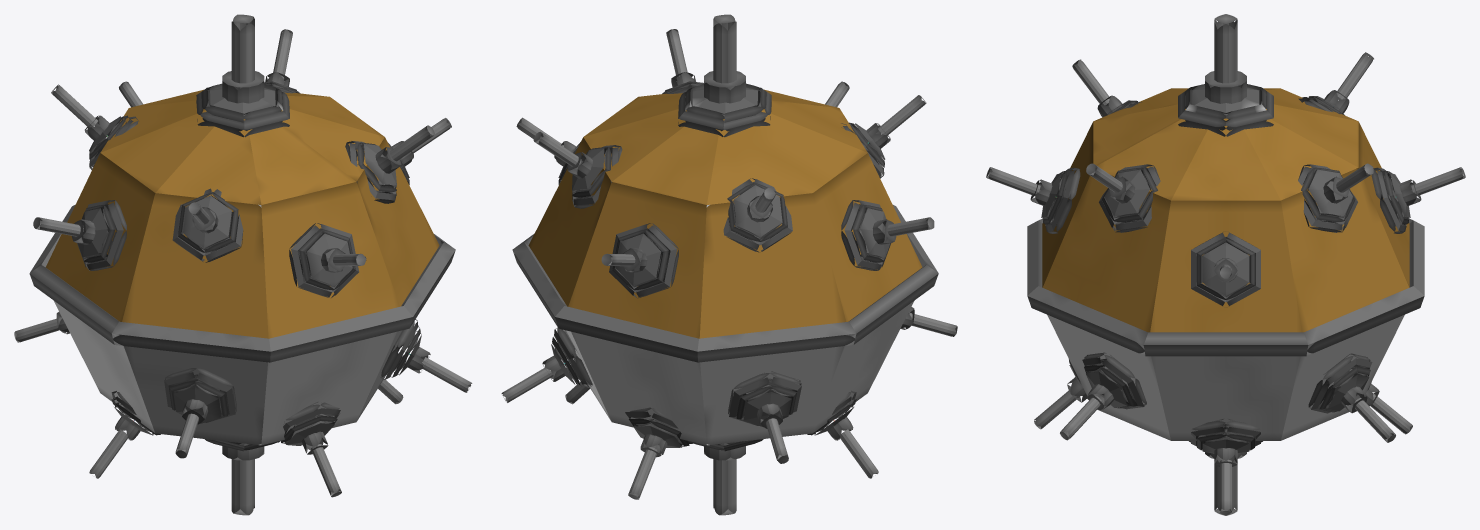
File: bombFixed.fbx
3 views of the same model, side by side, from view 1: azimuth 30°, elevation 25°; view 2: azimuth 150°, elevation 25°; view 3: azimuth 270°, elevation 25° (orthographic).
Visible parts, largest first — view 1: bombBase, bombRing, bombMineRing5_16, bombMineRing1_16, bombMineRing3_4, bombMineRing1_3, bombMineRing3_3, bombMineRing5_17, bombMineRing1_11, bombMineRing1_1, bombMineRing2_16, bombMineRing3_11 (+22 smaller); view 2: bombBase, bombRing, bombMineRing5_16, bombMineRing1_16, bombMineRing3_5, bombMineRing1_6, bombMineRing3_6, bombMineRing5_17, bombMineRing1_10, bombMineRing1_1, bombMineRing2_16, bombMineRing3_10 (+21 smaller); view 3: bombBase, bombRing, bombMineRing1_16, bombMineRing3, bombMineRing5_16, bombMineRing1, bombMineRing3_2, bombMineRing3_7, bombMineRing2, bombMineRing2_16, bombMineRing4_16, bombMineRing1_13 (+25 smaller).
Part boxes in pixels (bbox=[...]): bombBase: bbox=[45, 89, 439, 445]; bombRing: bbox=[29, 204, 455, 362]; bombMineRing5_16: bbox=[231, 14, 254, 90]; bombMineRing1_16: bbox=[196, 90, 289, 137]; bombMineRing3_4: bbox=[183, 195, 232, 249]; bombMineRing1_3: bbox=[289, 223, 359, 297]; bombMineRing3_3: bbox=[304, 233, 352, 285]; bombMineRing5_17: bbox=[231, 459, 254, 515]; bombMineRing1_11: bbox=[164, 368, 236, 422]; bombMineRing1_1: bbox=[77, 200, 126, 270]; bombMineRing2_16: bbox=[201, 83, 283, 131]; bombMineRing3_11: bbox=[173, 383, 221, 423]; bombBase: bbox=[528, 89, 922, 445]; bombRing: bbox=[512, 205, 938, 362]; bombMineRing5_16: bbox=[713, 14, 736, 90]; bombMineRing1_16: bbox=[678, 89, 771, 137]; bombMineRing3_5: bbox=[733, 185, 782, 238]; bombMineRing1_6: bbox=[609, 223, 678, 298]; bombMineRing3_6: bbox=[615, 233, 663, 285]; bombMineRing5_17: bbox=[713, 459, 736, 515]; bombMineRing1_10: bbox=[728, 371, 801, 425]; bombMineRing1_1: bbox=[841, 200, 891, 270]; bombMineRing2_16: bbox=[685, 83, 766, 131]; bombMineRing3_10: bbox=[743, 387, 791, 427]; bombBase: bbox=[1042, 88, 1409, 440]; bombRing: bbox=[1027, 218, 1424, 356]; bombMineRing1_16: bbox=[1178, 89, 1273, 136]; bombMineRing3: bbox=[1202, 242, 1249, 295]; bombMineRing5_16: bbox=[1214, 14, 1237, 83]; bombMineRing1: bbox=[1191, 232, 1260, 306]; bombMineRing3_2: bbox=[1104, 169, 1151, 218]; bombMineRing3_7: bbox=[1306, 169, 1352, 218]; bombMineRing2: bbox=[1196, 238, 1255, 299]; bombMineRing2_16: bbox=[1185, 84, 1266, 130]; bombMineRing4_16: bbox=[1205, 71, 1246, 103]; bombMineRing1_13: bbox=[1308, 353, 1372, 413].
Size of the model in its own units: 128 by 145 by 128.
Materials: 1 (1 with a texture image).
